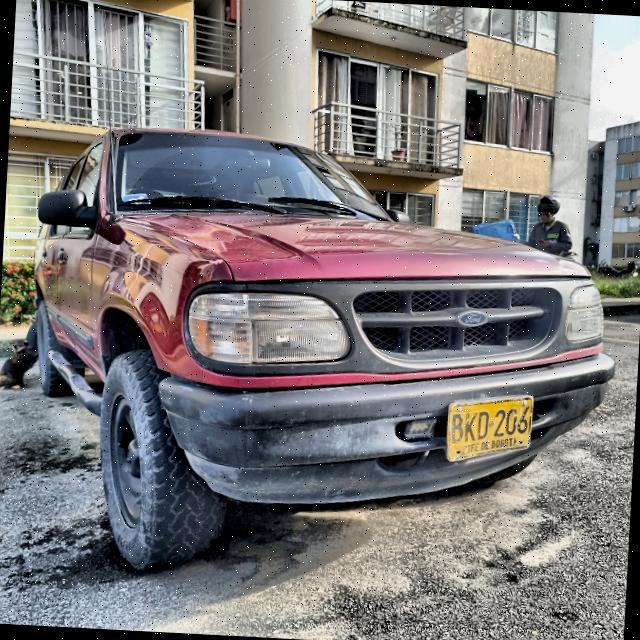plate: (450, 398, 532, 460)
